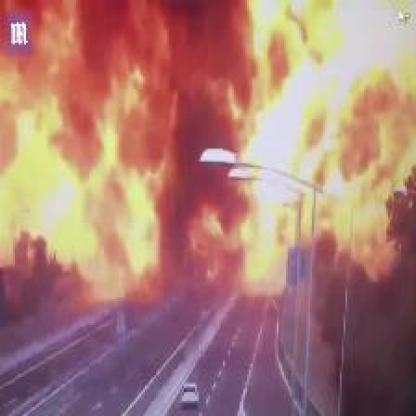fire: (217, 2, 416, 316), (4, 41, 193, 308)
